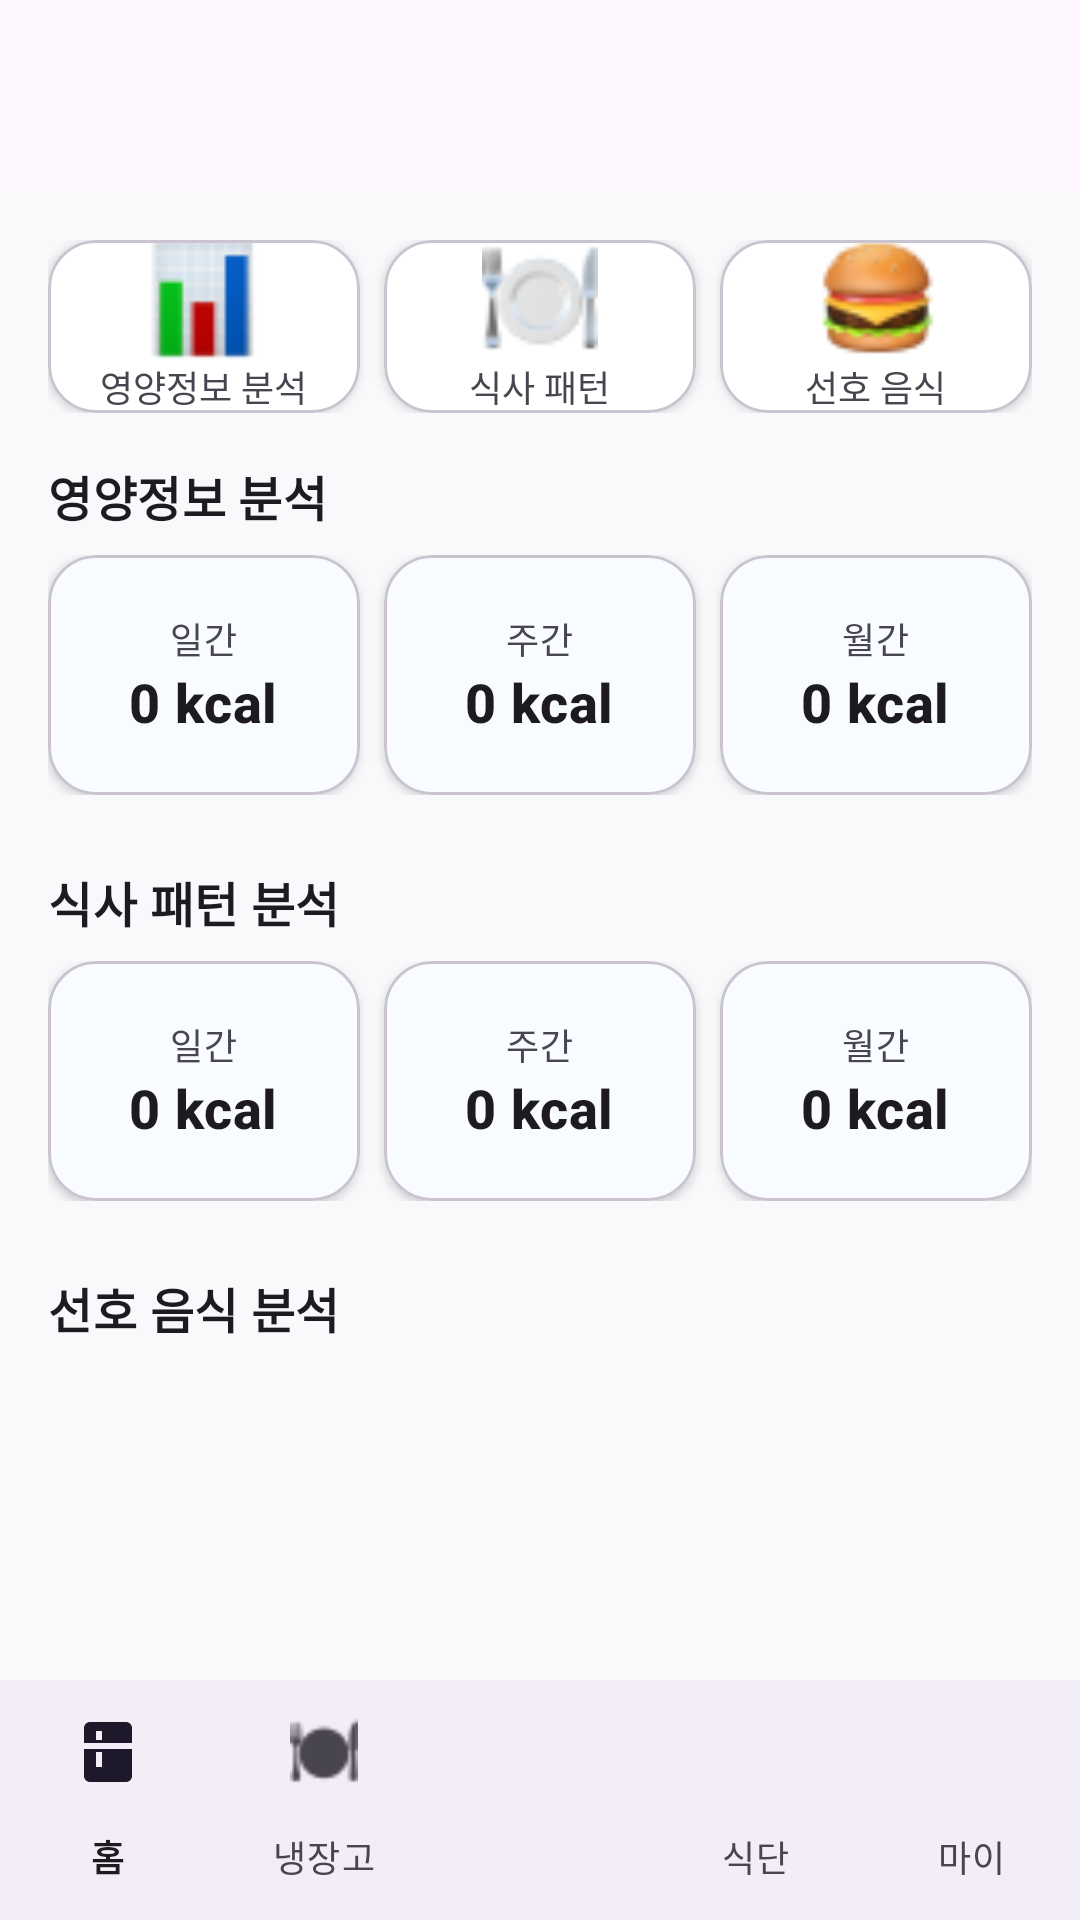

Screen size 1080 x 1920. Icon name, then its center in pixels as point (x, y):
bar chart: point (204, 299)
burger: point (876, 297)
plate: point (540, 298)
